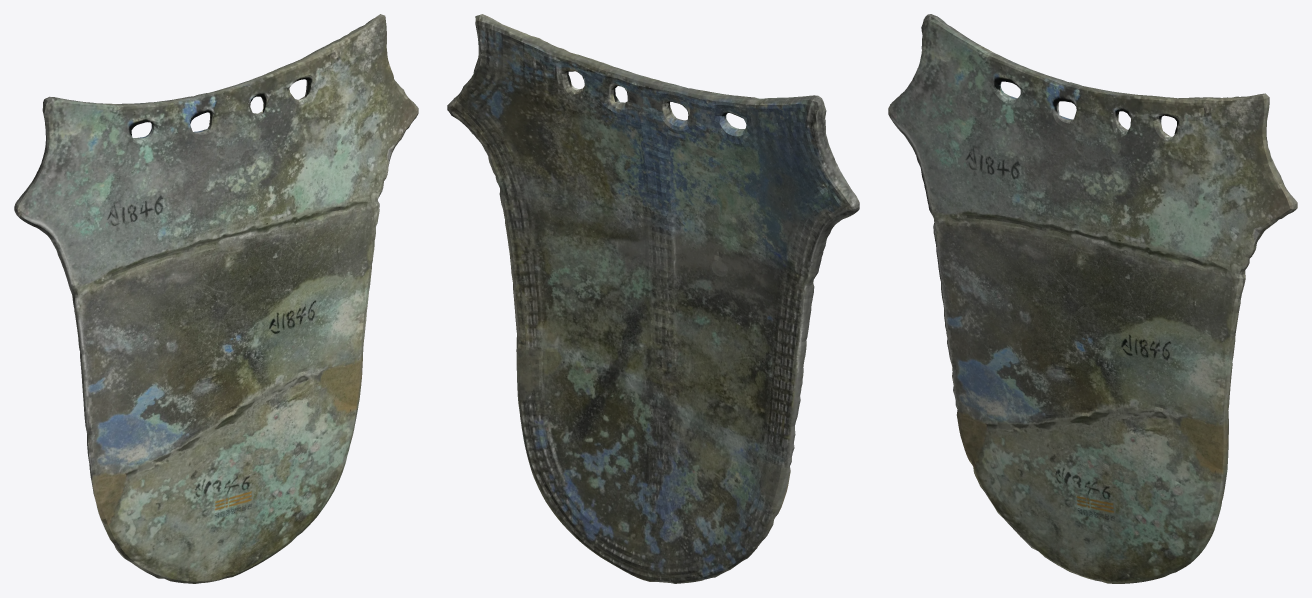
The model's file is shield-shaped-bronze.glb.
3 renders of one model, left to right at view 1: azimuth 30°, elevation 25°; view 2: azimuth 150°, elevation 25°; view 3: azimuth 330°, elevation 25°, orthographic.
Visible parts, largest first — view 1: ssu001846-000-30000; view 2: ssu001846-000-30000; view 3: ssu001846-000-30000.
Boxes of the visible parts, <box> form: ssu001846-000-30000: <box>14,14,418,583</box>; ssu001846-000-30000: <box>447,14,859,583</box>; ssu001846-000-30000: <box>888,14,1297,583</box>.
Bounding box in the file's own units: 1.26 × 1.55 × 0.1002.
1 material, 1 textured.
